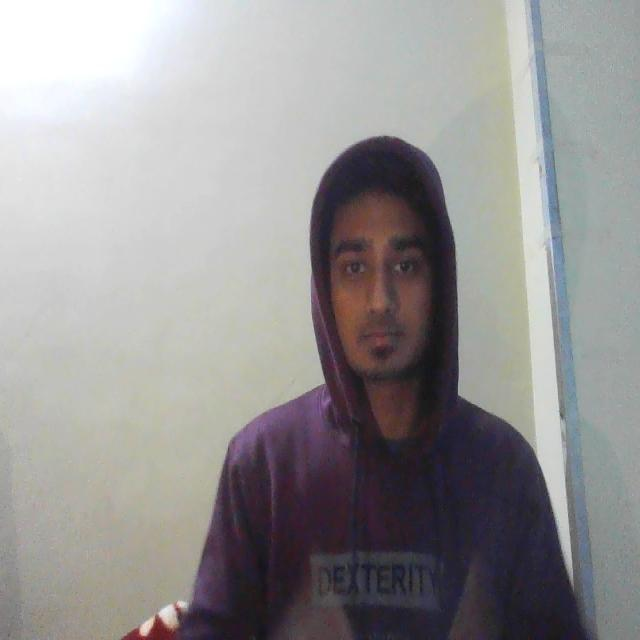real: (310, 125, 461, 411)
